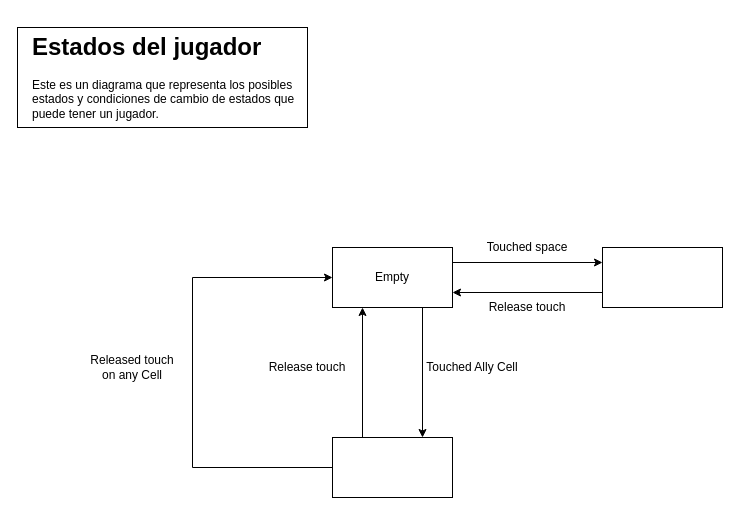
The diagram is 740 pixels wide and 515 high, and some of its shapes have lost their labels. Each missing label, with the centre of its shape:
"Cutting" goes at point (662, 277).
"fromCell selected toCell empty" goes at point (392, 467).
